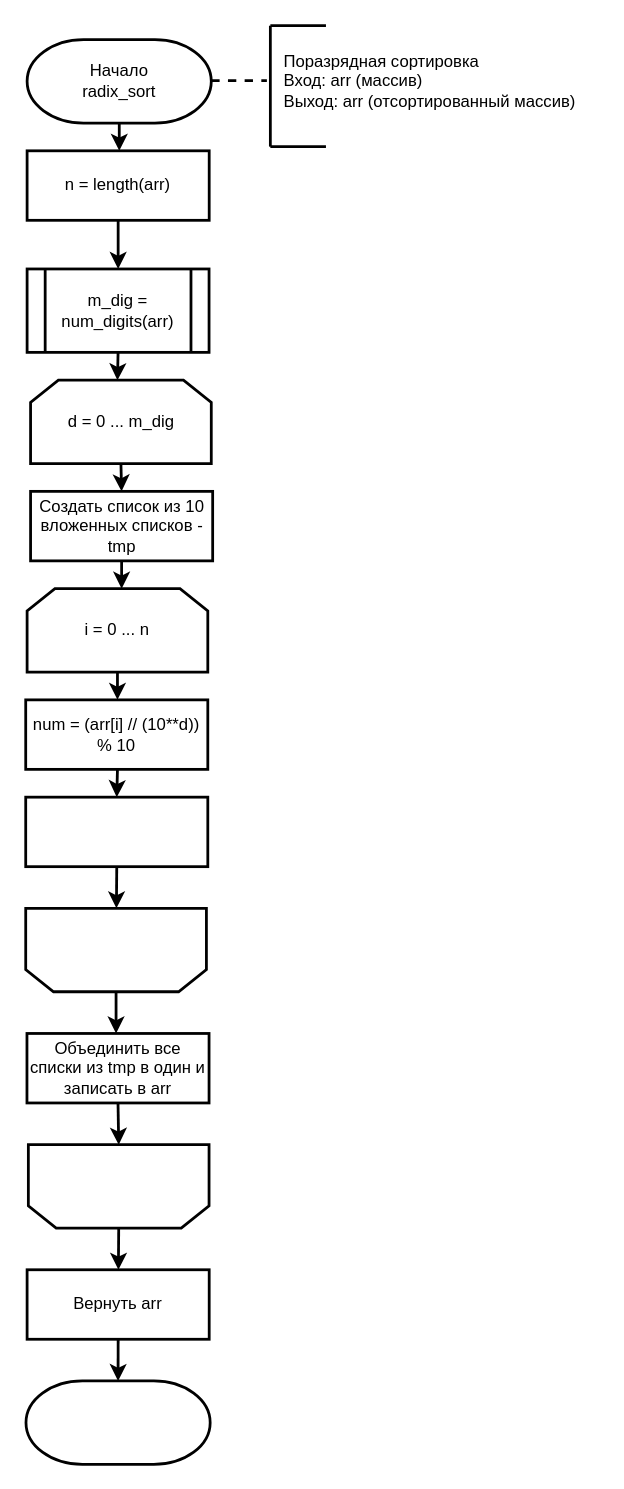
This 624x1489 diagram has some shape labels left out. Each missing label, with the centre of its shape:
d = d + 1: point 118,1186
i = i + 1: point 115,949
В список tmp[num] добавить arr[i]: point 116,831
Конец radix_sort: point 117,1422
